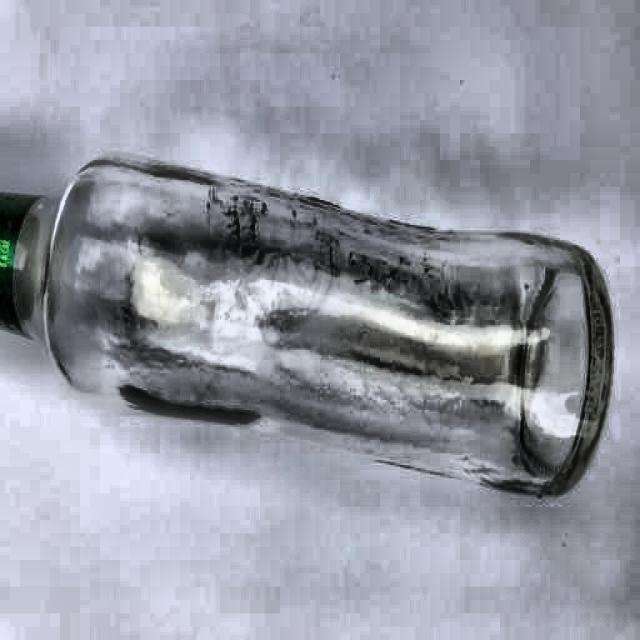glass: (1, 150, 640, 502)
